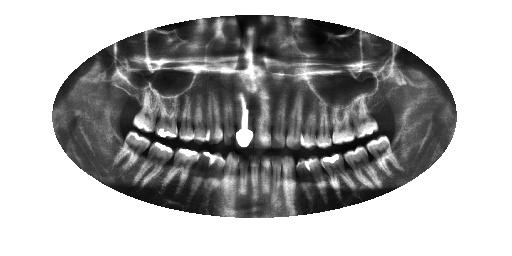healthy: (317, 102, 332, 151)
i10decay: (235, 156, 253, 212)
i11decay: (223, 151, 241, 219)
i12decay: (187, 148, 225, 216)
i13healthy: (159, 144, 199, 200)
i14healthy: (127, 139, 175, 187)
i15healthy: (110, 130, 155, 175)
i16loss: (99, 130, 125, 163)
i1healthy: (387, 130, 415, 161)
i2healthy: (365, 134, 405, 177)
i3healthy: (341, 144, 382, 192)
i4healthy: (318, 150, 362, 198)
i5decay: (292, 152, 330, 203)
i6decay: (280, 154, 298, 214)
i7decay: (269, 153, 284, 218)
i8healthy: (258, 153, 275, 214)
i9decay: (248, 154, 264, 214)
u10decay: (217, 89, 236, 151)
u11decay: (205, 88, 223, 149)
u12healthy: (192, 90, 206, 147)
u13healthy: (177, 91, 195, 144)
u14healthy: (151, 86, 181, 142)
u15healthy: (131, 84, 153, 136)
u16loss: (120, 84, 144, 119)
u1loss: (367, 95, 396, 127)
u2healthy: (349, 99, 379, 138)
u3healthy: (328, 104, 357, 144)
u5healthy: (299, 103, 321, 150)
u6decay: (285, 92, 305, 152)
u7decay: (271, 90, 285, 154)
u8decay: (252, 90, 274, 153)
u9healthy: (235, 92, 253, 154)
